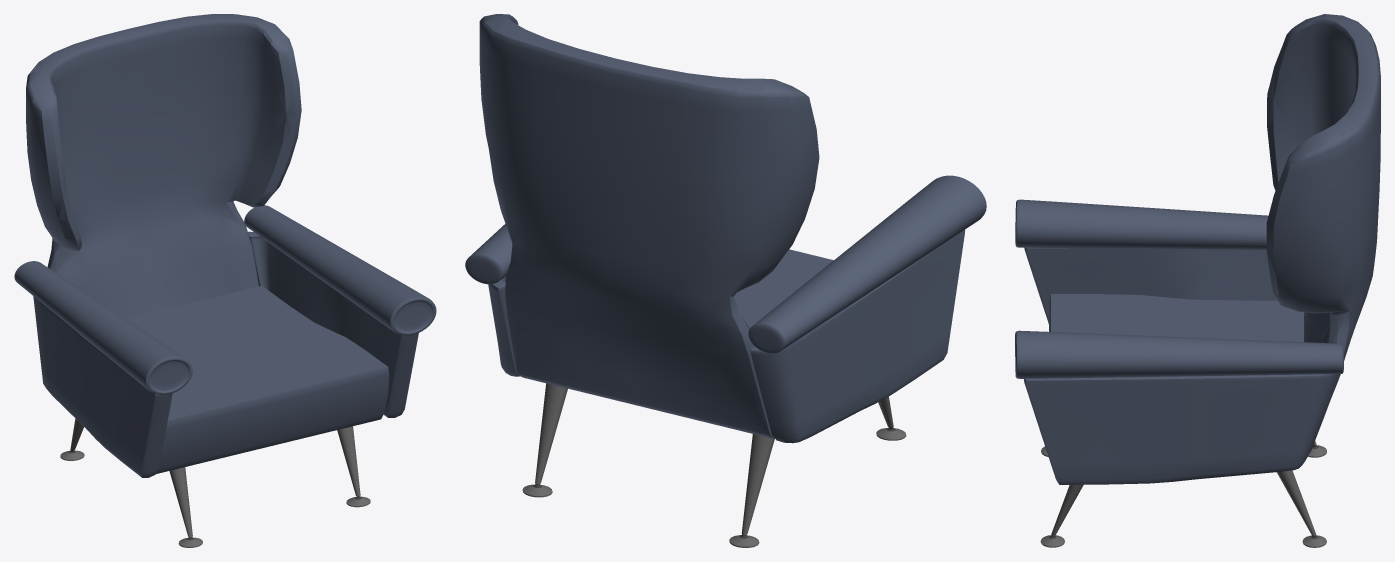
File: sh_scopia_armchair.glb
3 views of the same model, side by side, from view 1: azimuth 30°, elevation 25°; view 2: azimuth 150°, elevation 25°; view 3: azimuth 270°, elevation 25° (orthographic). The views are drawn at different scales.
Size of the model in its own units: 0.788 by 1 by 0.777.
